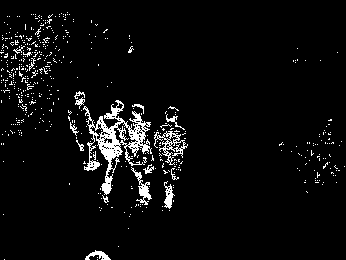person: (163, 102, 200, 210), (128, 99, 162, 209), (101, 93, 126, 206), (65, 87, 96, 174)
